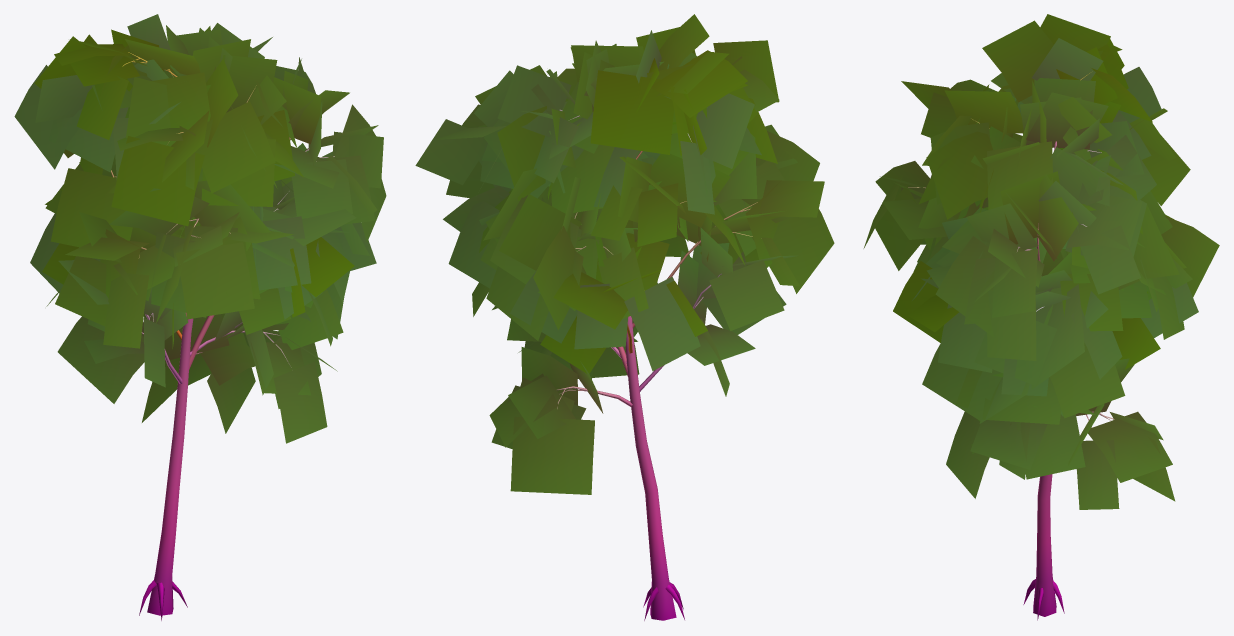
Rendered from birch_a.glb.
The picture shows the model from 3 angles, left to right: view 1: azimuth 30°, elevation 25°; view 2: azimuth 150°, elevation 25°; view 3: azimuth 270°, elevation 25°; orthographic projection. The views are drawn at different scales.
Parts seen in each view (by area): view 1: birch_a_LOD0; view 2: birch_a_LOD0; view 3: birch_a_LOD0.
Boxes of the visible parts, x1,y1,x2,y2 form: birch_a_LOD0: (14, 14, 386, 620); birch_a_LOD0: (415, 14, 834, 620); birch_a_LOD0: (863, 14, 1219, 620).
Size of what is drawn, in the model's own units: 7.14 by 11.65 by 6.54.
